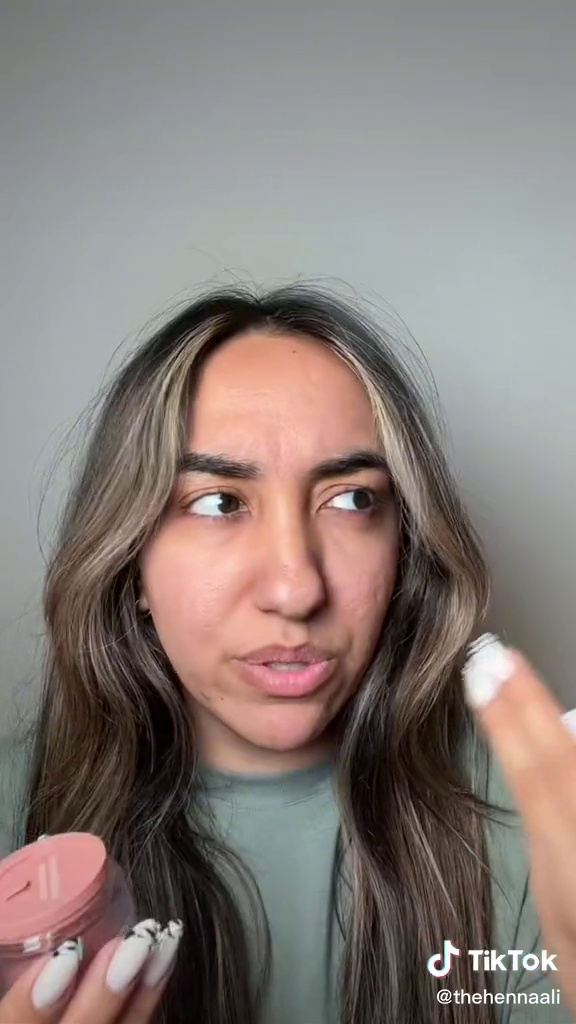train' :'yolo_data/train/images',: (1, 823, 149, 992)
